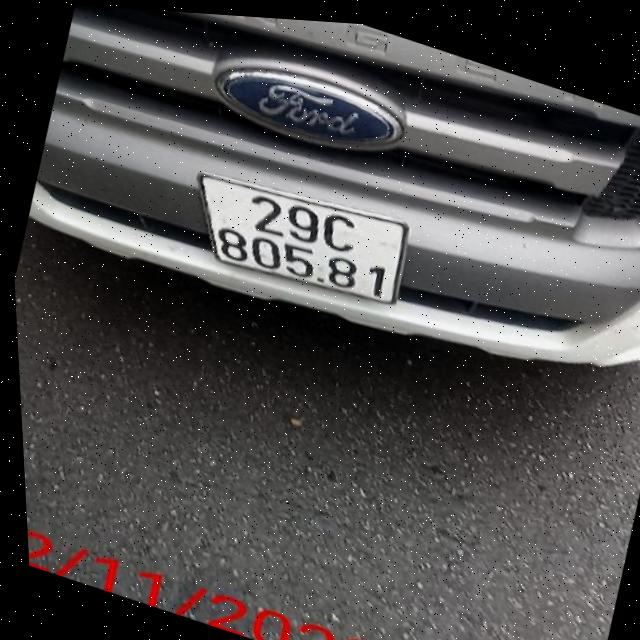car: (6, 0, 640, 463)
plate: (177, 149, 431, 338)
